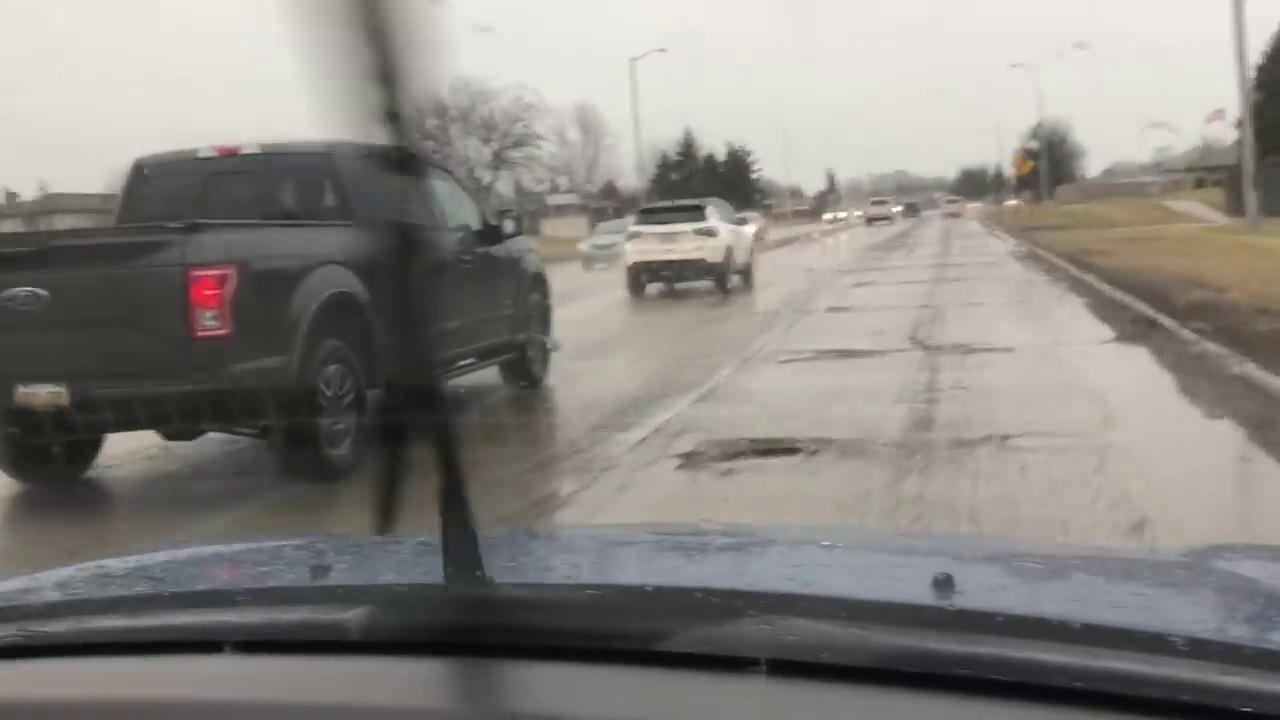pothole: (663, 433, 808, 474)
